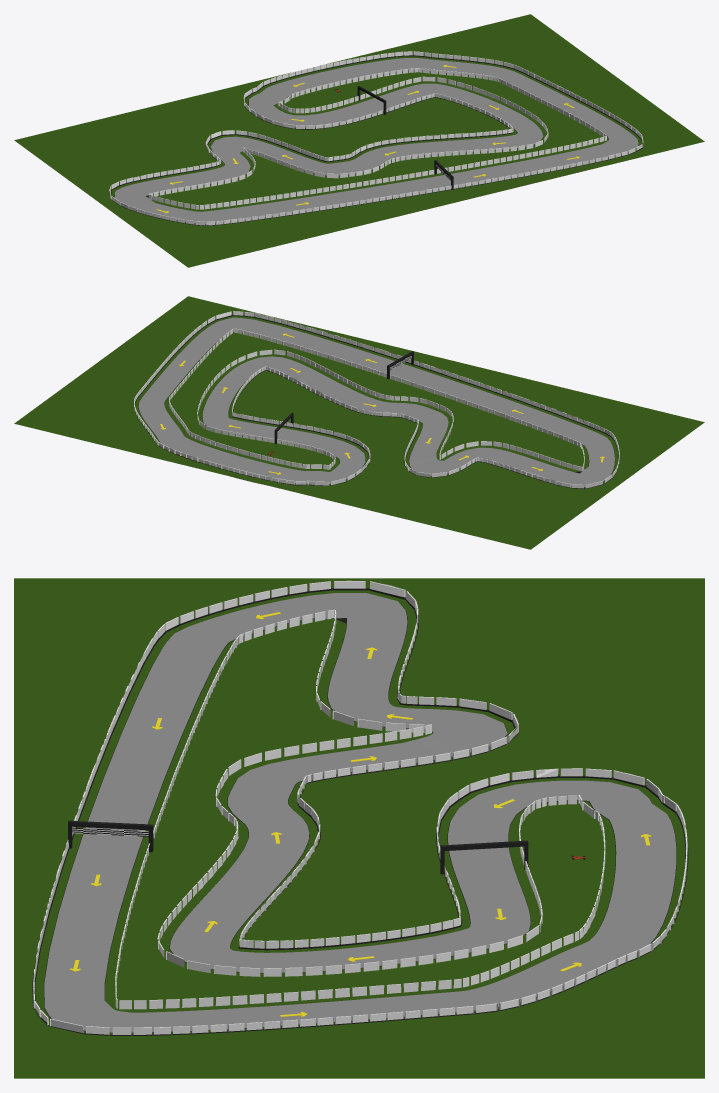
Rendered from low-poly-f1-track.gltf.
3 views of the same model, one above another, from view 1: azimuth 30°, elevation 25°; view 2: azimuth 150°, elevation 25°; view 3: azimuth 270°, elevation 25° (orthographic). The views are drawn at different scales.
Visible parts, largest first — view 1: ground, road; view 2: ground, road; view 3: ground, road, ghost-pavement-marking, checkpoint, goal.
Boxes of the visible parts, x1,y1,x2,y2 form: ground: [14, 14, 704, 267]; road: [109, 51, 643, 225]; ground: [14, 296, 704, 549]; road: [133, 311, 619, 488]; ground: [14, 578, 704, 1078]; road: [32, 580, 688, 1035]; ghost-pavement-marking: [70, 612, 651, 1016]; checkpoint: [440, 840, 528, 874]; goal: [68, 820, 153, 852].
Size of the model in its own units: 601 by 20.12 by 351.
3 materials, 3 textured.
